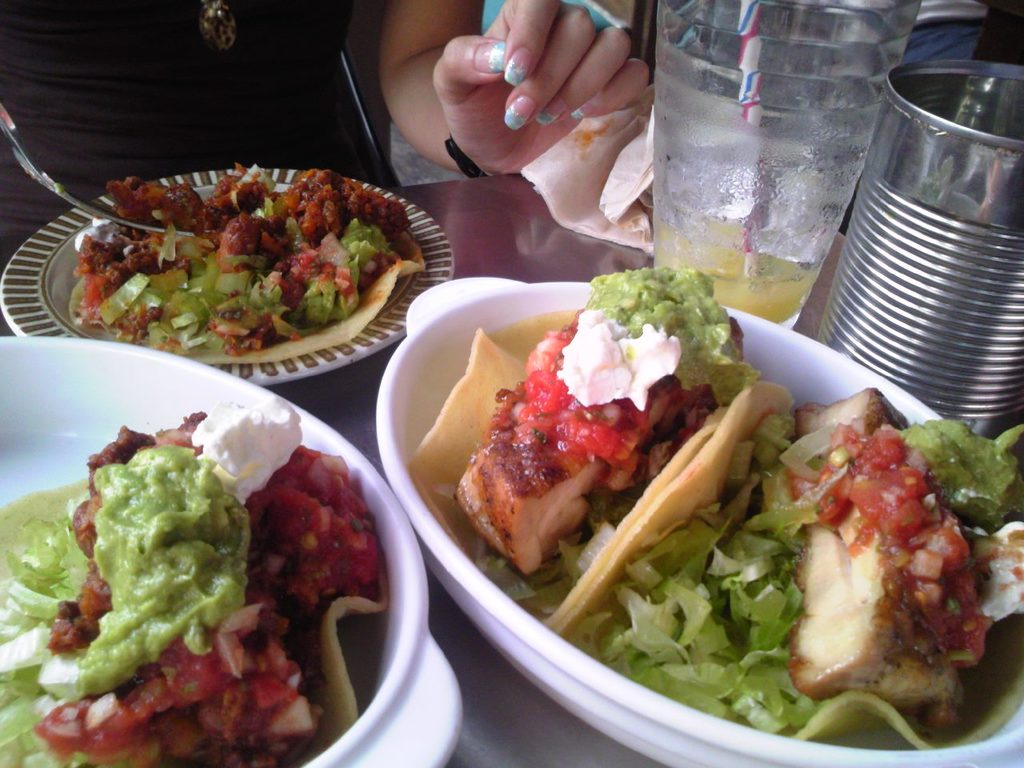taco: (355, 175, 1024, 738)
